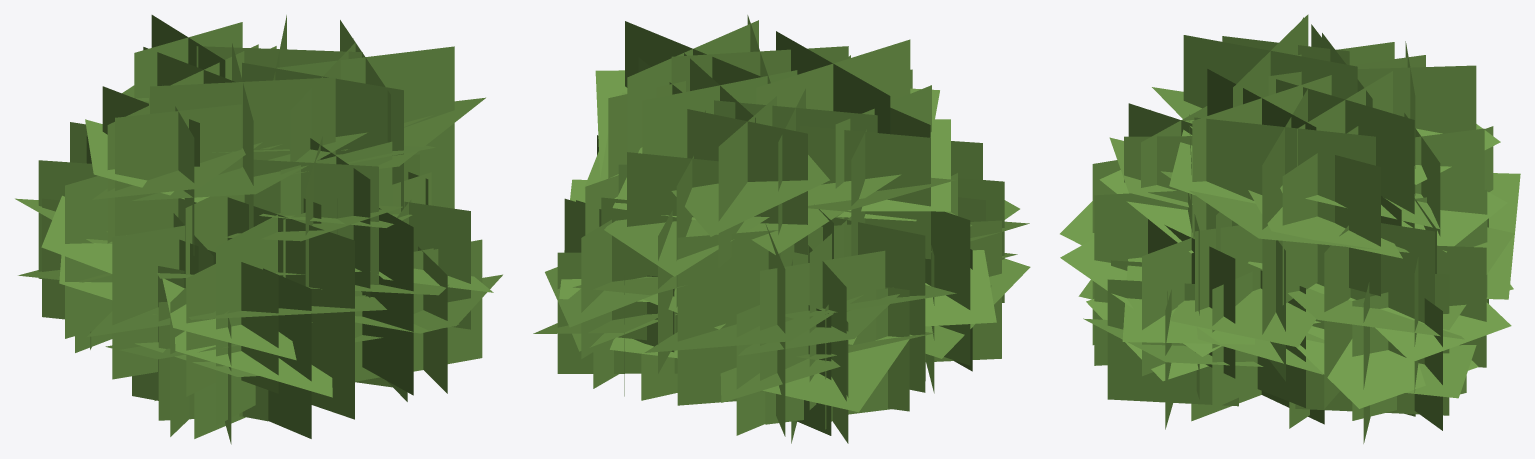
Rendered from pommier_1_loin.glb.
3 views of the same model, side by side, from view 1: azimuth 30°, elevation 25°; view 2: azimuth 150°, elevation 25°; view 3: azimuth 270°, elevation 25° (orthographic). The views are drawn at different scales.
Parts seen in each view (by area): view 1: Pommier_T1_Leger_Loin; view 2: Pommier_T1_Leger_Loin; view 3: Pommier_T1_Leger_Loin.
Boxes of the visible parts, bbox=[...] form: Pommier_T1_Leger_Loin: bbox=[15, 15, 502, 444]; Pommier_T1_Leger_Loin: bbox=[533, 15, 1030, 443]; Pommier_T1_Leger_Loin: bbox=[1060, 14, 1520, 443].
Bounding box in the file's own units: 5.78 × 4.28 × 5.71.
